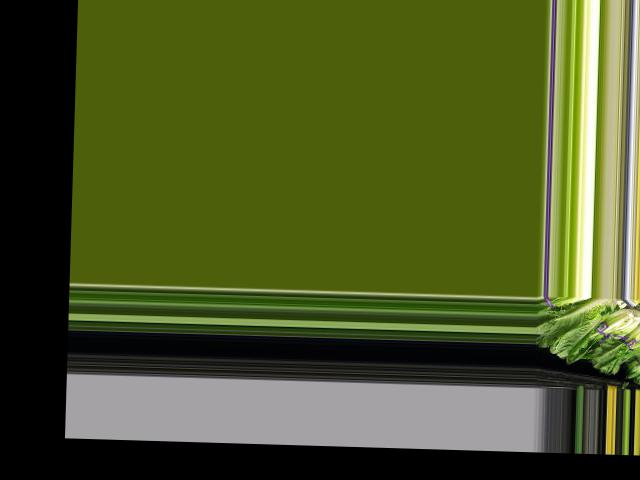lettuce: (537, 299, 615, 356)
